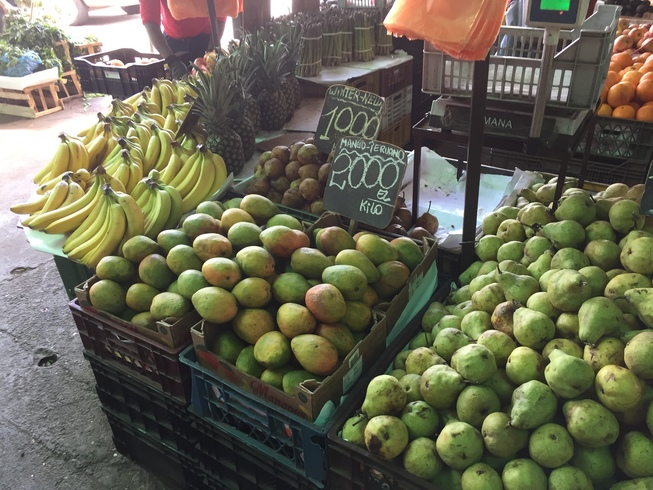precio: (326, 137, 409, 231), (320, 84, 382, 157)
